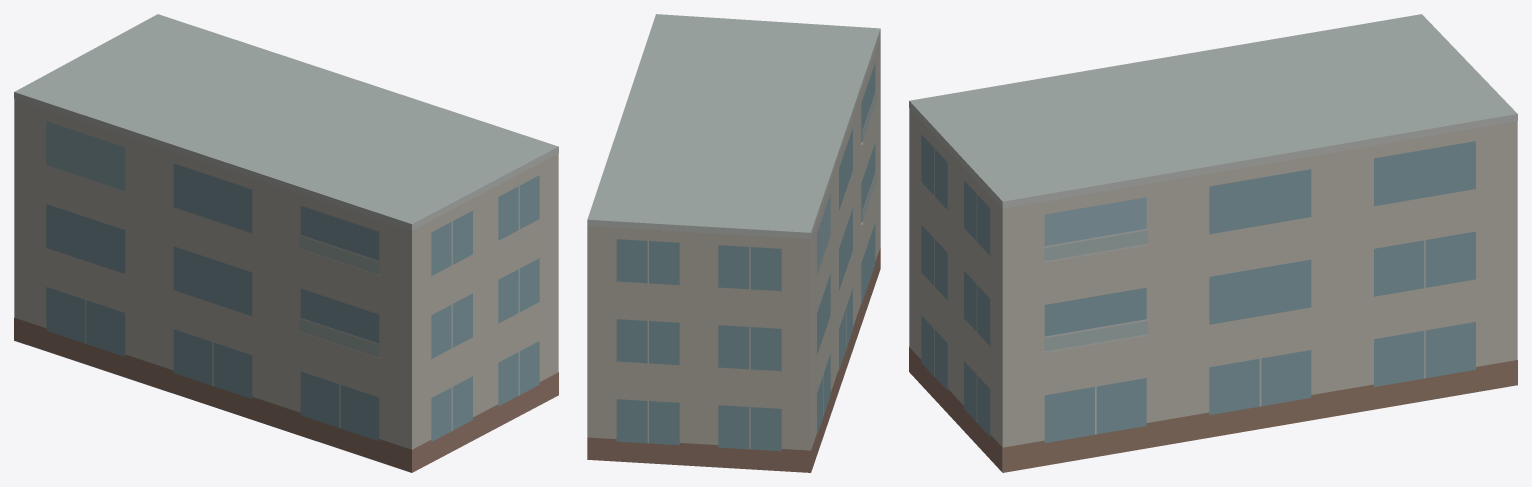
Rendered from survey-upis-32697631.glb.
3 renders of one model, left to right at view 1: azimuth 30°, elevation 25°; view 2: azimuth 150°, elevation 25°; view 3: azimuth 270°, elevation 25°, orthographic. The views are drawn at different scales.
Parts seen in each view (by area): view 1: survey-upis-32697631.tmp; view 2: survey-upis-32697631.tmp; view 3: survey-upis-32697631.tmp.
Part boxes in pixels (x1,y1,x2,y2): survey-upis-32697631.tmp: (14, 14, 558, 472); survey-upis-32697631.tmp: (587, 14, 880, 472); survey-upis-32697631.tmp: (909, 14, 1517, 472).
Size of the model in its own units: 13.59 by 9.15 by 18.62.
